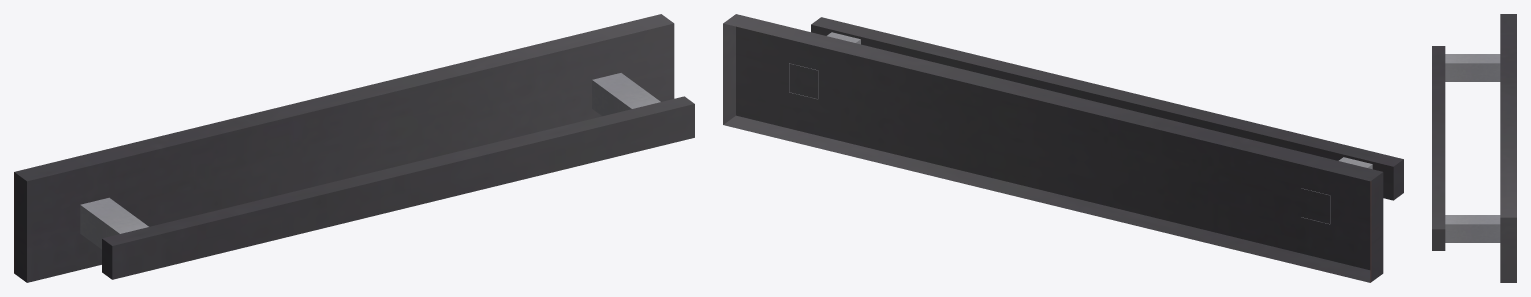
The model's file is Towel_Rack.fbx.
The picture shows the model from 3 angles, left to right: view 1: azimuth 30°, elevation 25°; view 2: azimuth 150°, elevation 25°; view 3: azimuth 270°, elevation 25°; orthographic projection. The views are drawn at different scales.
Visible parts, largest first — view 1: polySurface1555; view 2: polySurface1555; view 3: polySurface1555.
Part boxes in pixels (x1,y1,x2,y2): polySurface1555: (14, 14, 694, 282); polySurface1555: (723, 14, 1403, 282); polySurface1555: (1432, 14, 1516, 282).
Size of the model in its own units: 1.52 by 0.2276 by 0.267.
